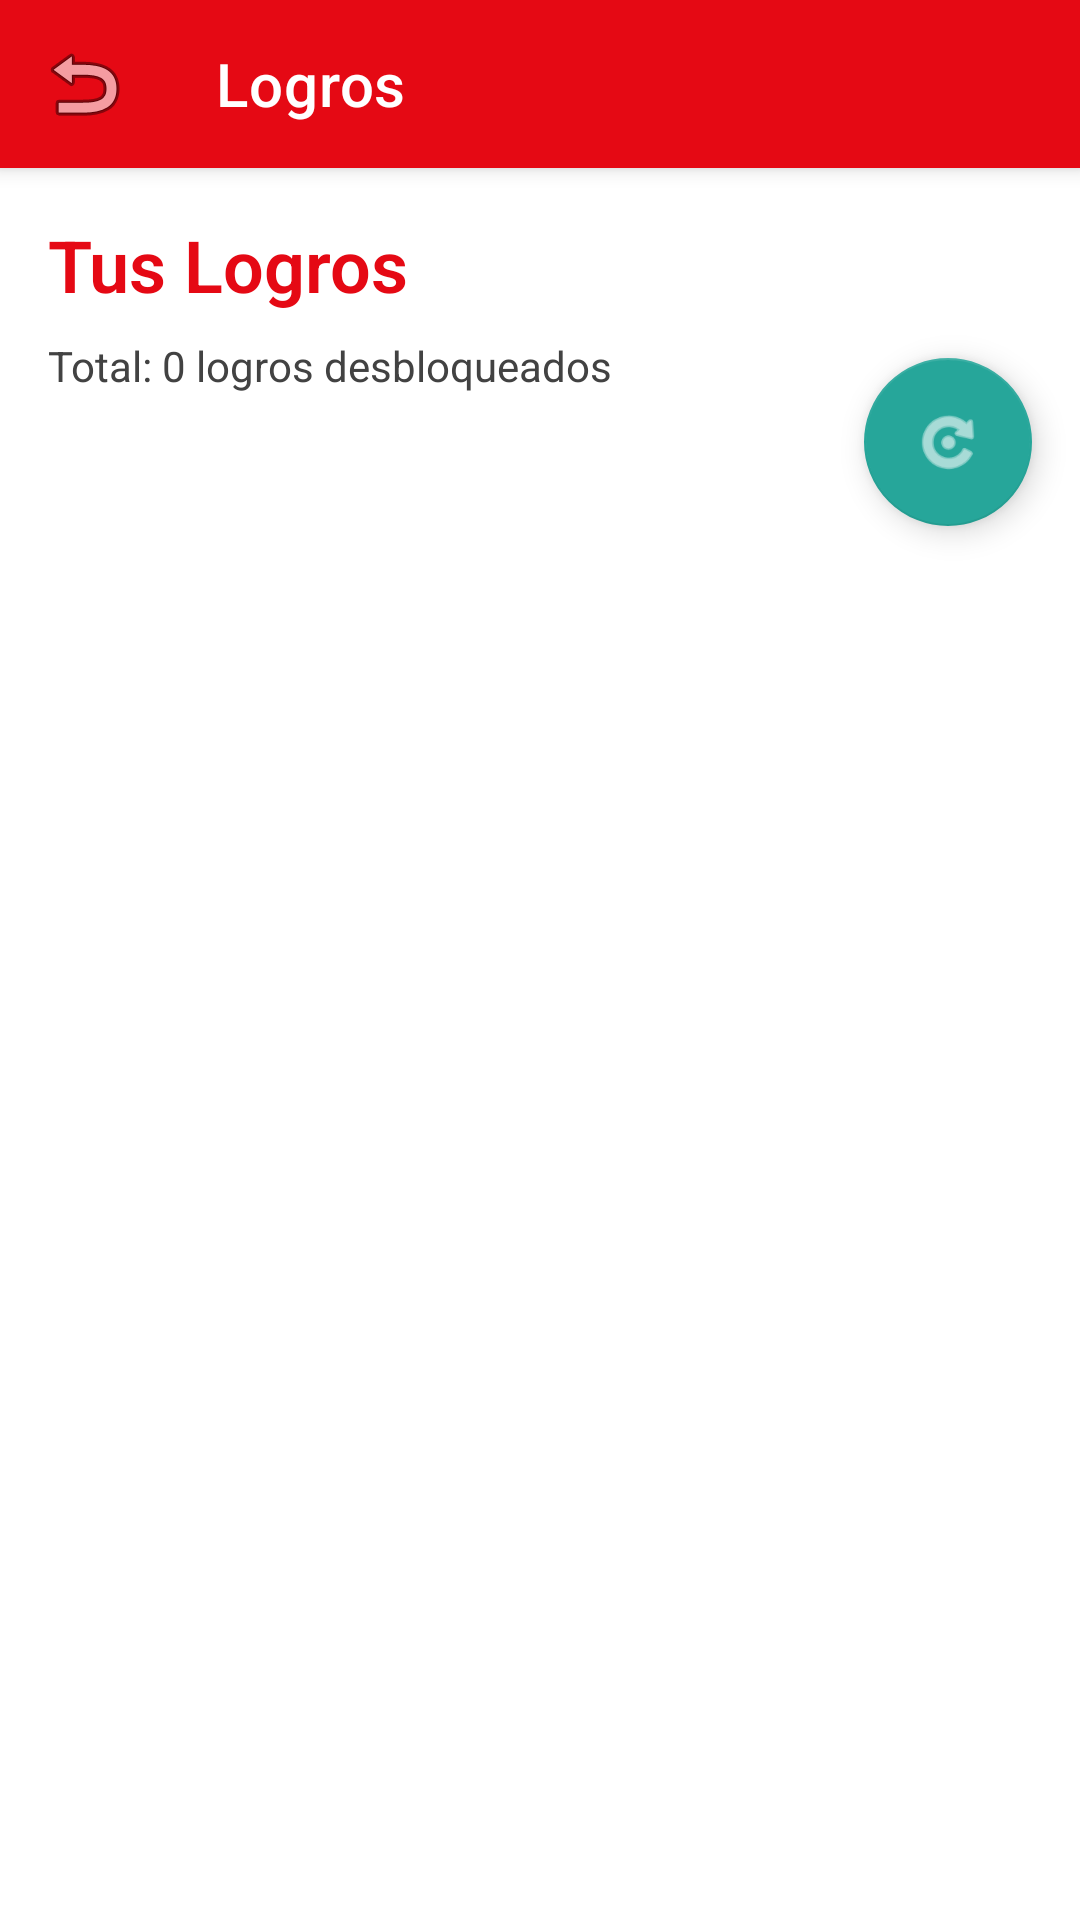

Locate icon controls on the screen. Image size 1080px x 1920px, boxes as (x1, y1, x2, y2).
rotate: (864, 358, 1032, 526)
